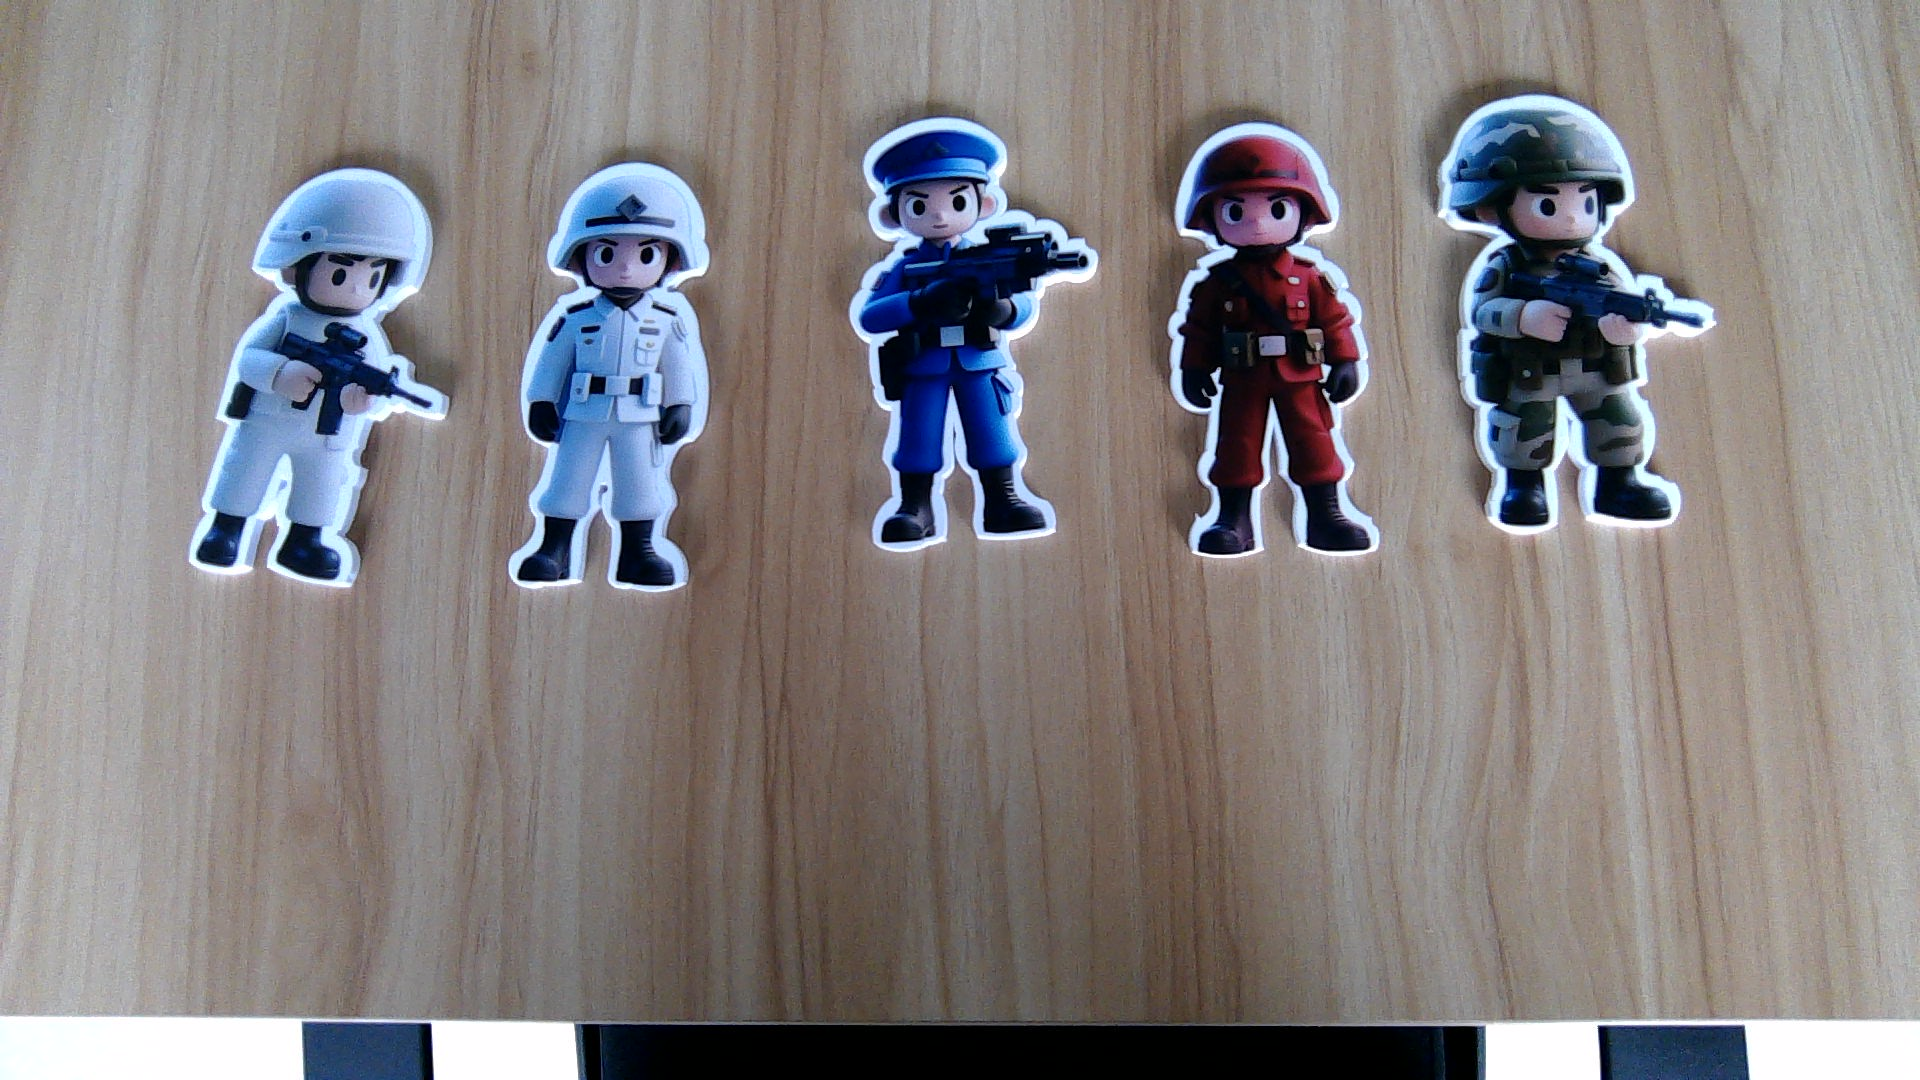人质: (175, 309, 452, 588), (512, 291, 704, 593)
友军: (1455, 243, 1712, 531)
敌人1: (1163, 249, 1382, 560)
敌人2: (843, 237, 1088, 549)
